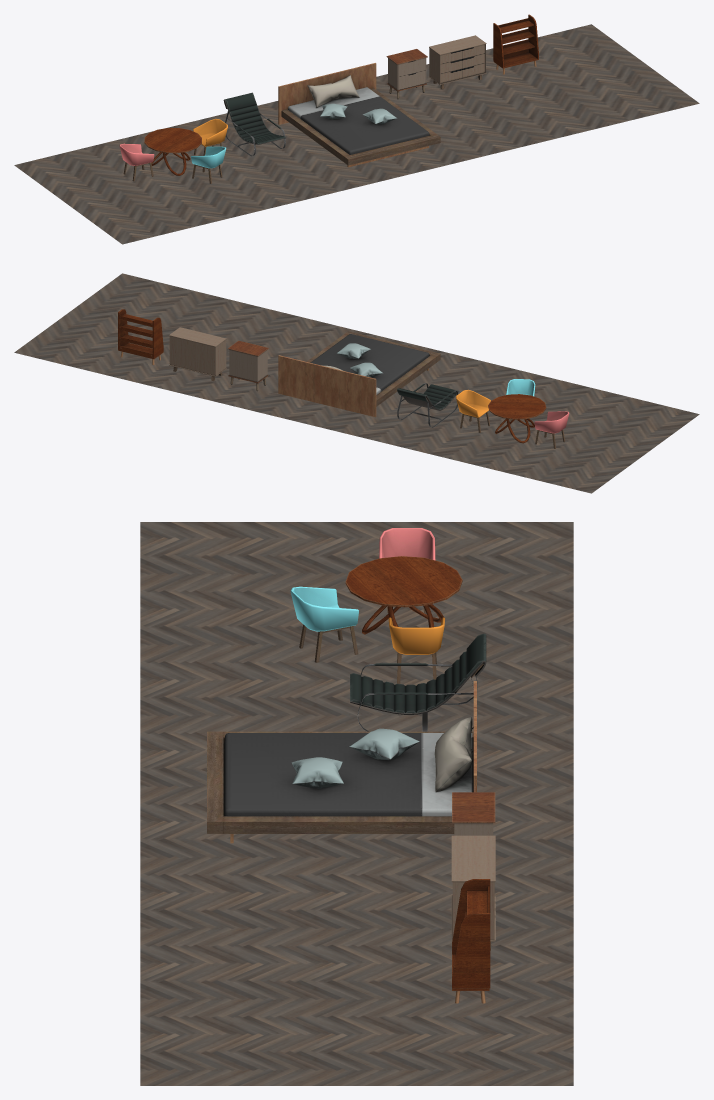
File: pack_interior.glb
The picture shows the model from 3 angles, top to bottom: view 1: azimuth 30°, elevation 25°; view 2: azimuth 150°, elevation 25°; view 3: azimuth 270°, elevation 25°; orthographic projection. The views are drawn at different scales.
Parts seen in each view (by area): view 1: Floor, Bed, Drawer, Book Shelf, Chair, Pillows, Dining Table, Nightstand, Dining Chair.001, Dining Chair.004, Dining Chair.003; view 2: Floor, Bed, Drawer, Book Shelf, Dining Table, Nightstand, Chair, Dining Chair.001, Pillows, Dining Chair.004, Dining Chair.003; view 3: Floor, Bed, Dining Table, Chair, Pillows, Book Shelf, Drawer, Dining Chair.003, Nightstand, Dining Chair.001, Dining Chair.004.
Boxes of the visible parts, x1,y1,x2,y2 form: Floor: (14,24,699,244); Bed: (278,63,440,167); Drawer: (429,35,486,89); Book Shelf: (493,14,538,74); Chair: (223,92,285,156); Pillows: (307,75,396,124); Dining Table: (144,128,201,175); Nightstand: (386,49,427,99); Dining Chair.001: (193,118,227,155); Dining Chair.004: (119,143,154,181); Dining Chair.003: (191,146,226,183); Floor: (14,273,699,493); Bed: (278,331,440,417); Drawer: (169,327,226,381); Book Shelf: (118,309,163,364); Dining Table: (488,394,546,443); Nightstand: (227,340,268,391); Chair: (397,383,459,427); Dining Chair.001: (456,389,490,432); Pillows: (321,343,382,377); Dining Chair.004: (534,411,569,448); Dining Chair.003: (506,379,535,421); Floor: (140,522,573,1085); Bed: (207,681,476,843); Dining Table: (345,556,462,634); Chair: (350,633,486,731); Pillows: (291,717,472,791); Book Shelf: (452,879,490,1003); Drawer: (451,835,495,950); Dining Chair.003: (290,586,358,662); Nightstand: (452,792,495,835); Dining Chair.001: (388,617,445,683); Dining Chair.004: (379,528,435,612).
Bounding box in the file's own units: 8000 × 600 × 2600.
Materials: 11 (11 with a texture image).
